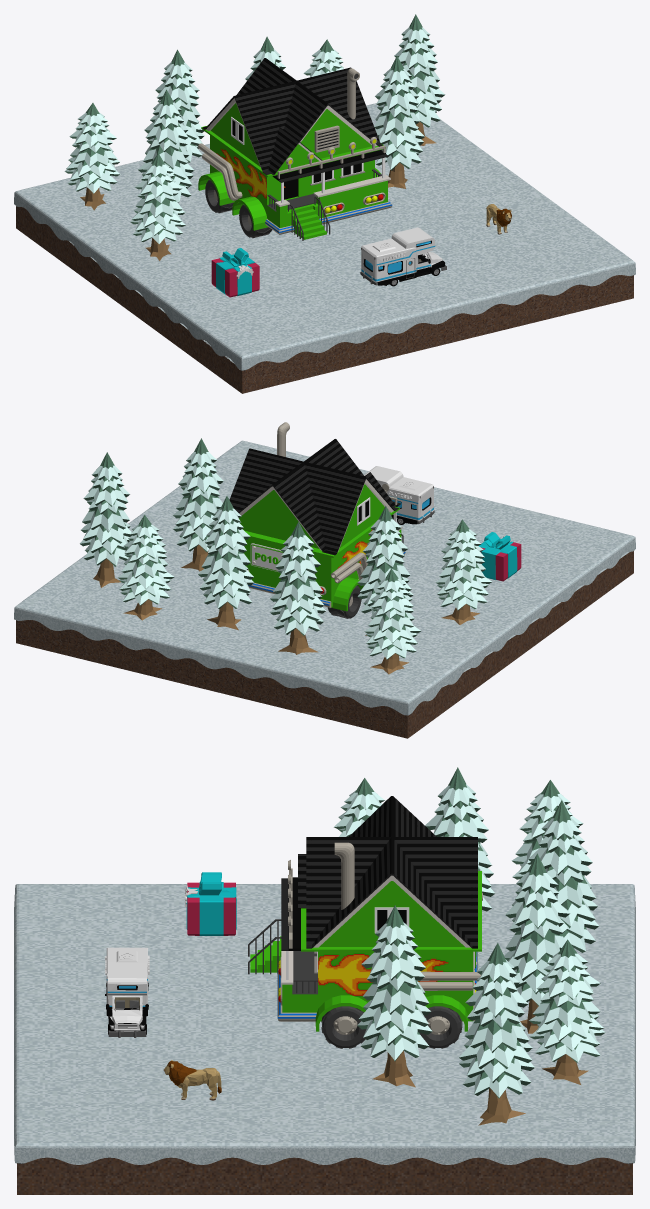
3 renders of one model, top to bottom at view 1: azimuth 30°, elevation 25°; view 2: azimuth 150°, elevation 25°; view 3: azimuth 270°, elevation 25°, orthographic. The views are drawn at different scales.
Parts seen in each view (by area): view 1: Cube.003, Cube.1474, VEHICLES_CAMPER, OBJRANDOM_GIANT_PRESENT; view 2: Cube.003, Cube.1474, VEHICLES_CAMPER, OBJRANDOM_GIANT_PRESENT; view 3: Cube.003, Cube.1474, VEHICLES_CAMPER, OBJRANDOM_GIANT_PRESENT, ANIMAL_LEON.
Boxes of the visible parts, left/top/right/bottom form: Cube.003: left=14, top=14, right=635, bottom=393; Cube.1474: left=198, top=58, right=392, bottom=240; VEHICLES_CAMPER: left=360, top=227, right=446, bottom=286; OBJRANDOM_GIANT_PRESENT: left=211, top=248, right=259, bottom=297; Cube.003: left=14, top=438, right=635, bottom=738; Cube.1474: left=229, top=422, right=405, bottom=618; VEHICLES_CAMPER: left=364, top=466, right=434, bottom=524; OBJRANDOM_GIANT_PRESENT: left=479, top=532, right=521, bottom=581; Cube.003: left=14, top=767, right=635, bottom=1194; Cube.1474: left=248, top=796, right=482, bottom=1048; VEHICLES_CAMPER: left=105, top=947, right=149, bottom=1037; OBJRANDOM_GIANT_PRESENT: left=185, top=872, right=236, bottom=935; ANIMAL_LEON: left=163, top=1060, right=221, bottom=1100.
Bounding box in the file's own units: 4040 × 1989 × 4040.
36 materials, 4 textured.
